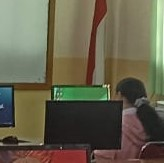monitor: (43, 99, 123, 151), (51, 84, 110, 101), (0, 84, 15, 128)
